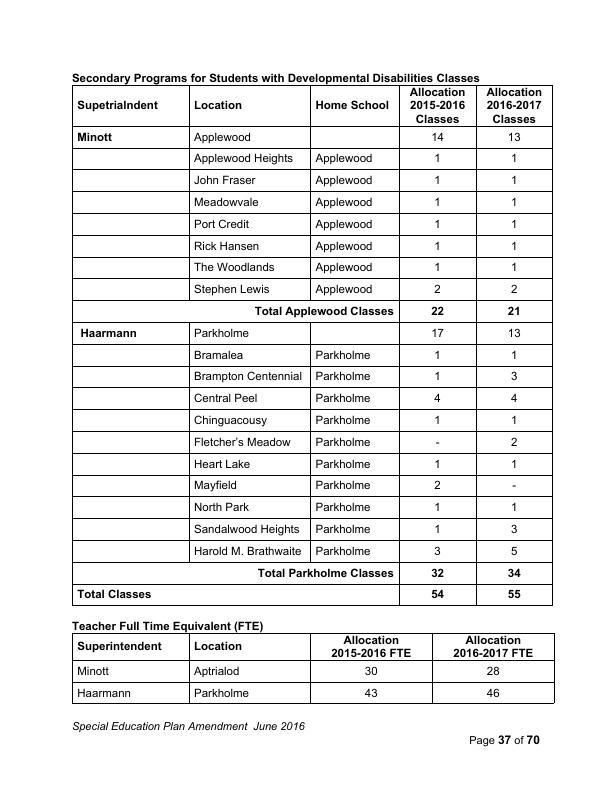table: (70, 83, 557, 610), (70, 630, 558, 708)
text: (67, 716, 315, 739), (70, 71, 483, 84), (70, 618, 264, 634), (467, 731, 545, 750)
